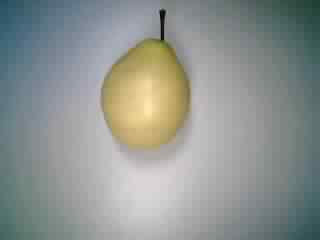pear: (90, 7, 205, 159)
